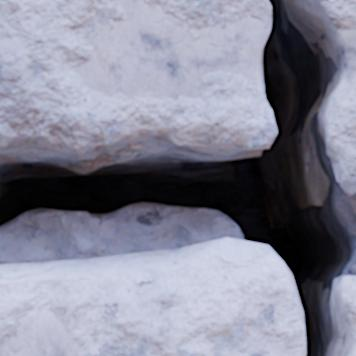broken_brick: (0, 0, 274, 158), (0, 237, 304, 355), (322, 0, 355, 197), (342, 275, 355, 355)
crack: (0, 0, 355, 355)
